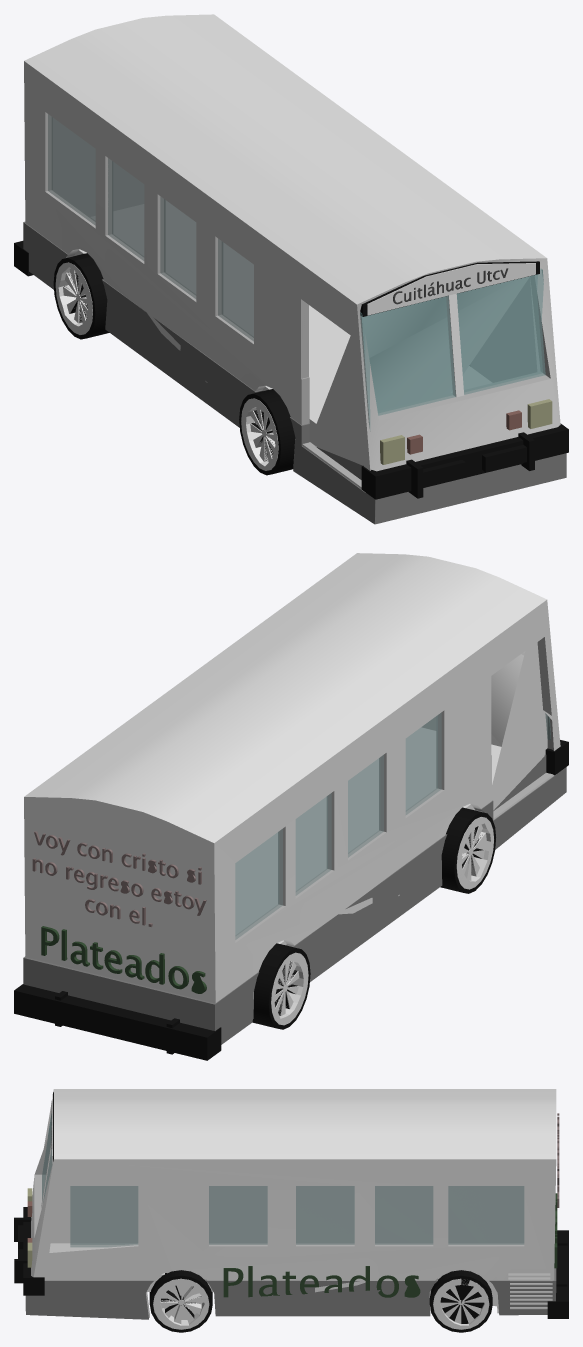
File: autobus.fbx
The picture shows the model from 3 angles, top to bottom: view 1: azimuth 30°, elevation 25°; view 2: azimuth 150°, elevation 25°; view 3: azimuth 270°, elevation 25°; orthographic projection. The views are drawn at different scales.
Visible parts, largest first — view 1: pCube50; view 2: pCube50; view 3: pCube50.
Boxes of the visible parts, <box> form: pCube50: <box>14,14,568,524</box>; pCube50: <box>14,553,568,1060</box>; pCube50: <box>14,1089,568,1332</box>.
Bounding box in the file's own units: 3.8 × 4.15 × 11.51.
